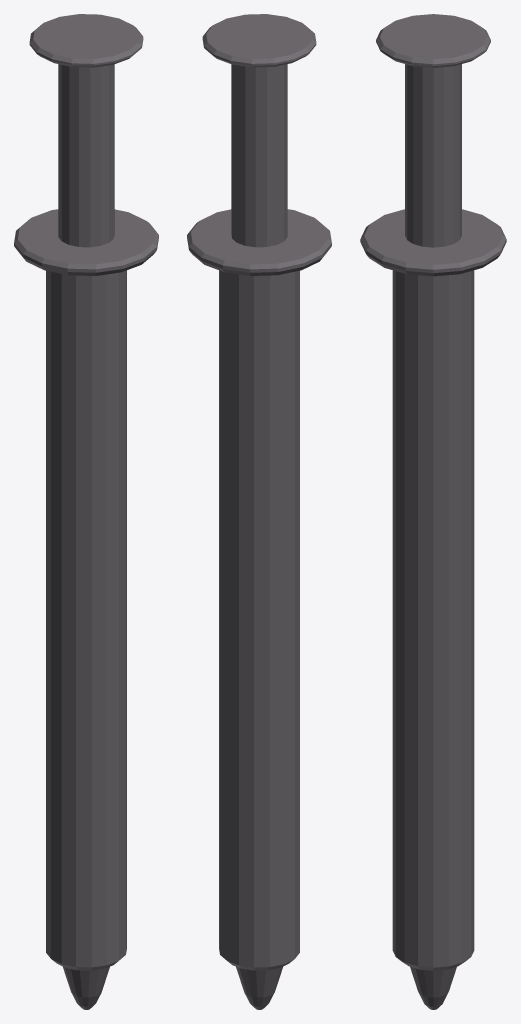
Rendered from thermal_paste.fbx.
3 views of the same model, side by side, from view 1: azimuth 30°, elevation 25°; view 2: azimuth 150°, elevation 25°; view 3: azimuth 270°, elevation 25° (orthographic).
Parts seen in each view (by area): view 1: Thermal paste1.001; view 2: Thermal paste1.001; view 3: Thermal paste1.001.
Boxes of the visible parts, x1,y1,x2,y2 form: Thermal paste1.001: (14, 14, 158, 1009); Thermal paste1.001: (187, 14, 331, 1009); Thermal paste1.001: (360, 14, 506, 1009).
Bounding box in the file's own units: 37.9 × 278 × 37.9.
